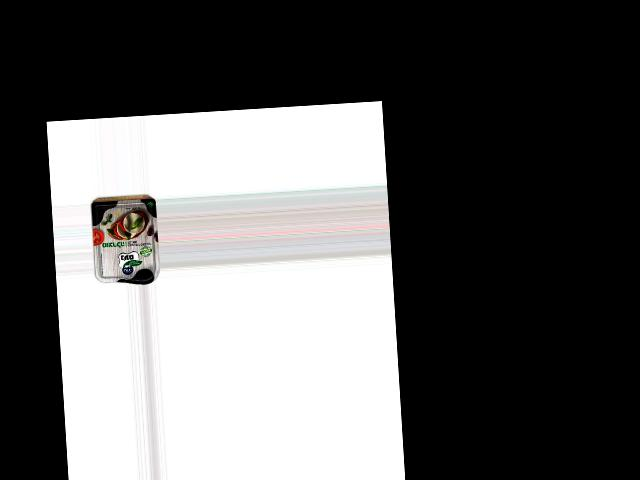cheese: (89, 197, 160, 286)
